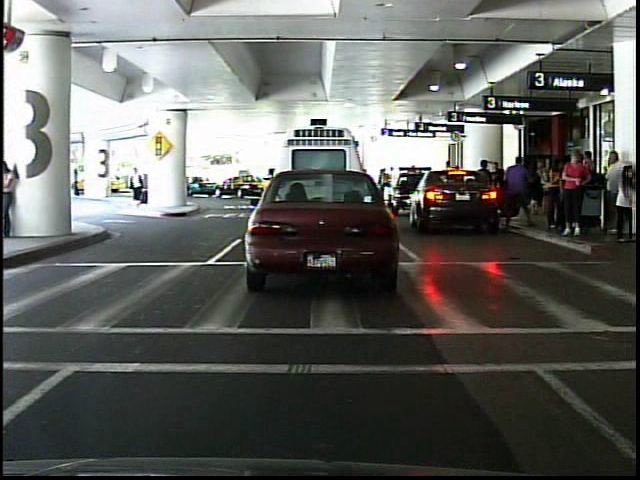person: (559, 147, 594, 243), (5, 156, 26, 240), (124, 161, 154, 209), (70, 163, 85, 201)
